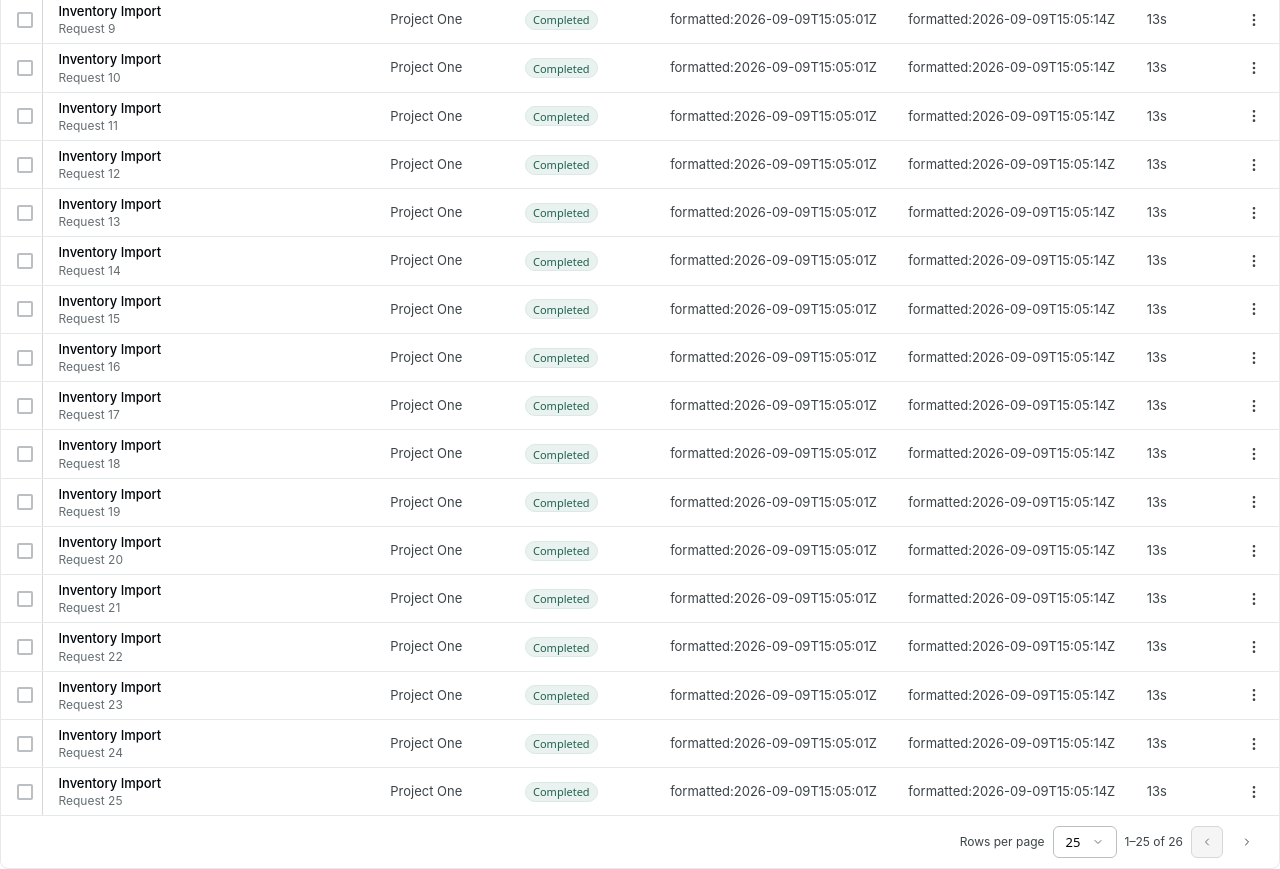
JobsListPage › pages jobs through the server and renders the standard table footer
This screenshot has width=1280, height=869.
(page scrolled)
Check: the text "1–25 of 26" is shown, box [1124,833,1183,851]
Click the button named "Next page" at point(1247, 842), box [1231,826,1263,858]
(page scrolled)
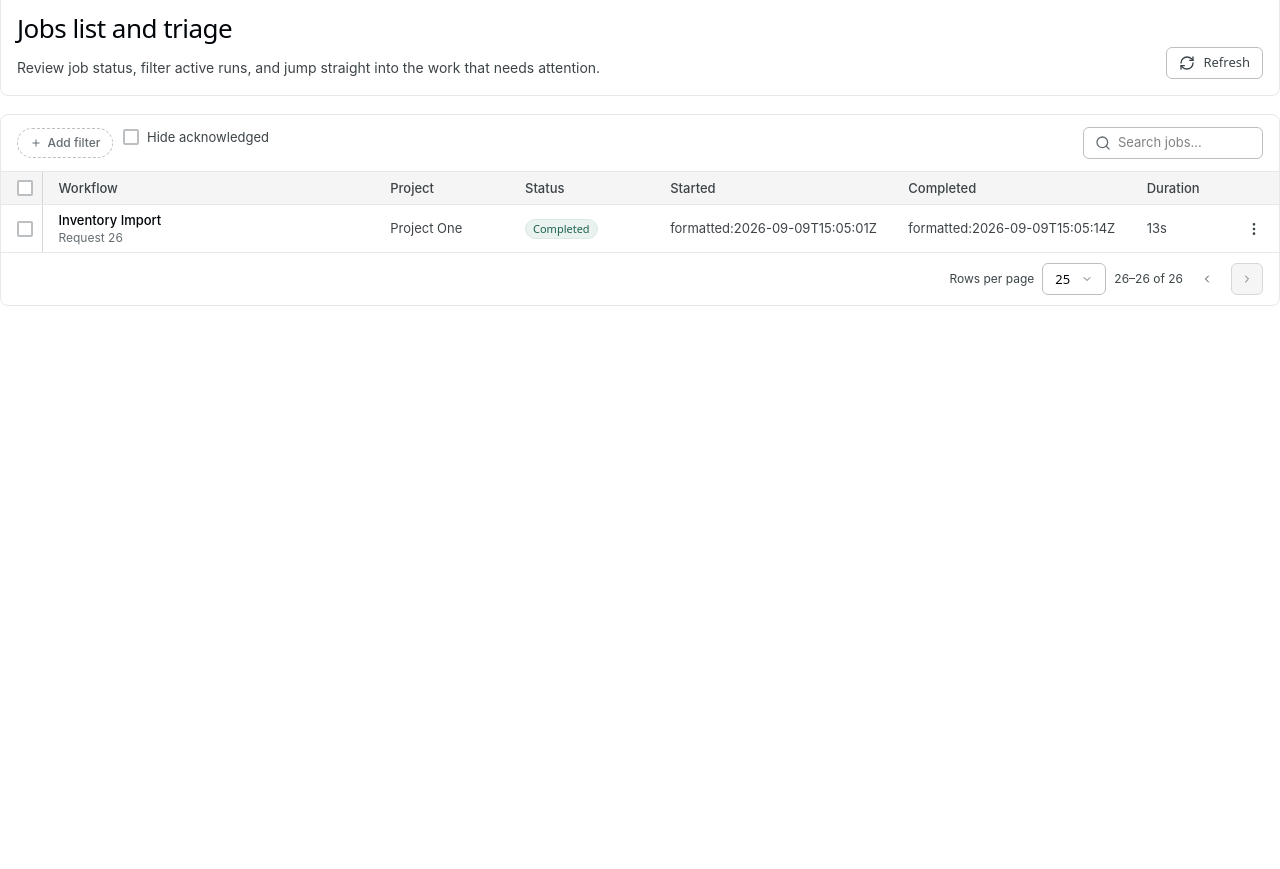
Check: the text "26–26 of 26" is shown, box [1114,270,1183,288]
Check: the text "Request 26" is shown, box [58,230,123,245]
Click the dropdown named "Rows per page" at point(1074, 279), box [1042,263,1106,295]
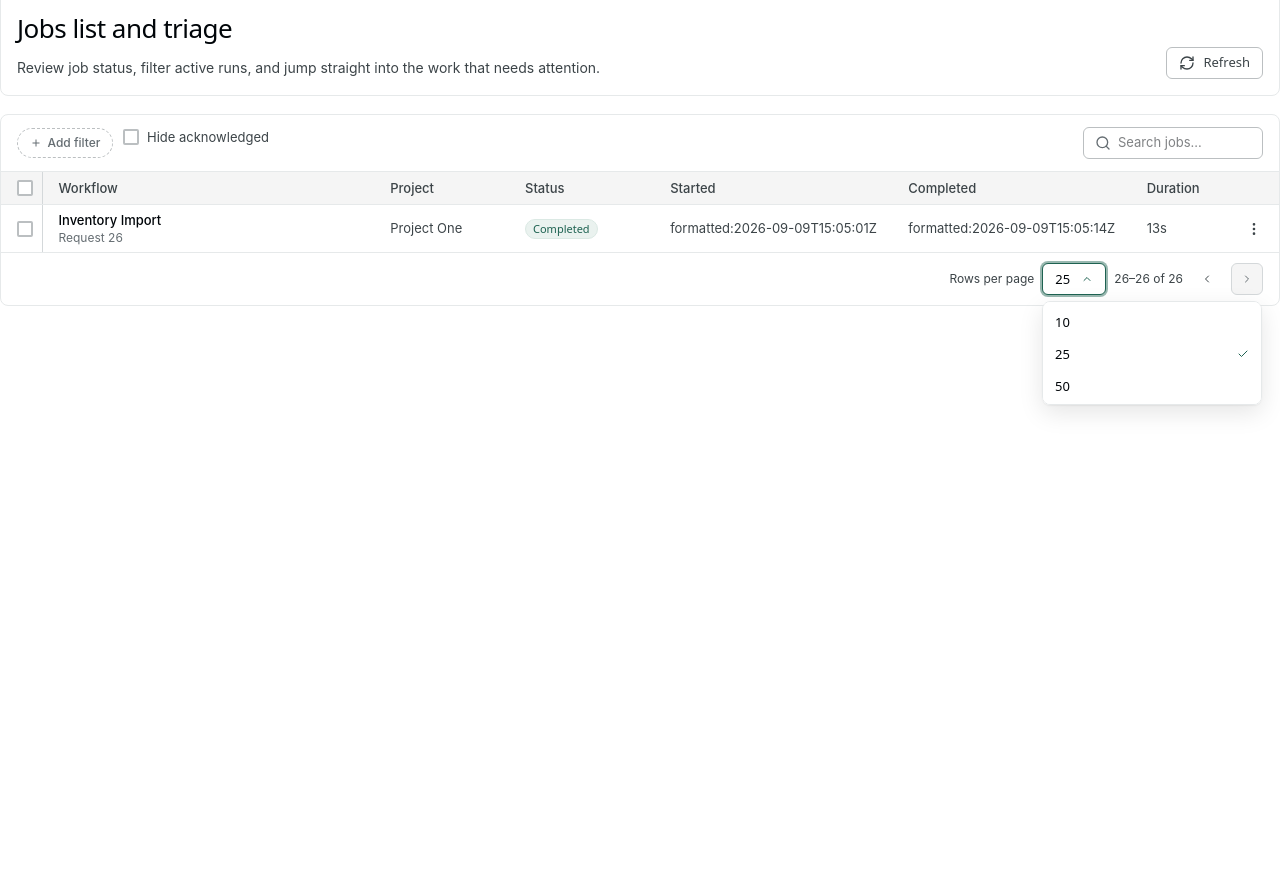
Click the option "50" at point(1152, 386), box [1047,370,1257,402]
(page scrolled)
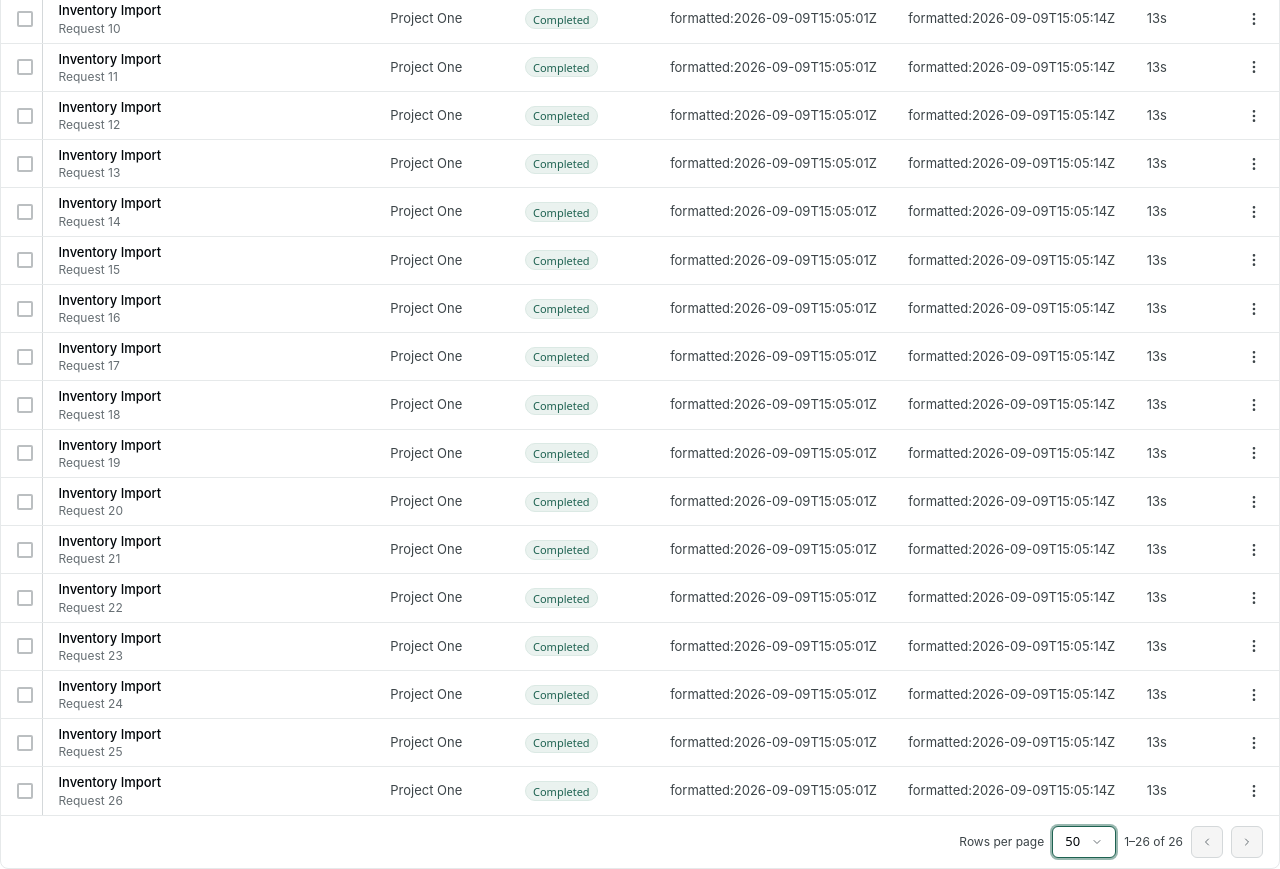
Check: the text "1–26 of 26" is shown, box [1124,833,1183,851]
